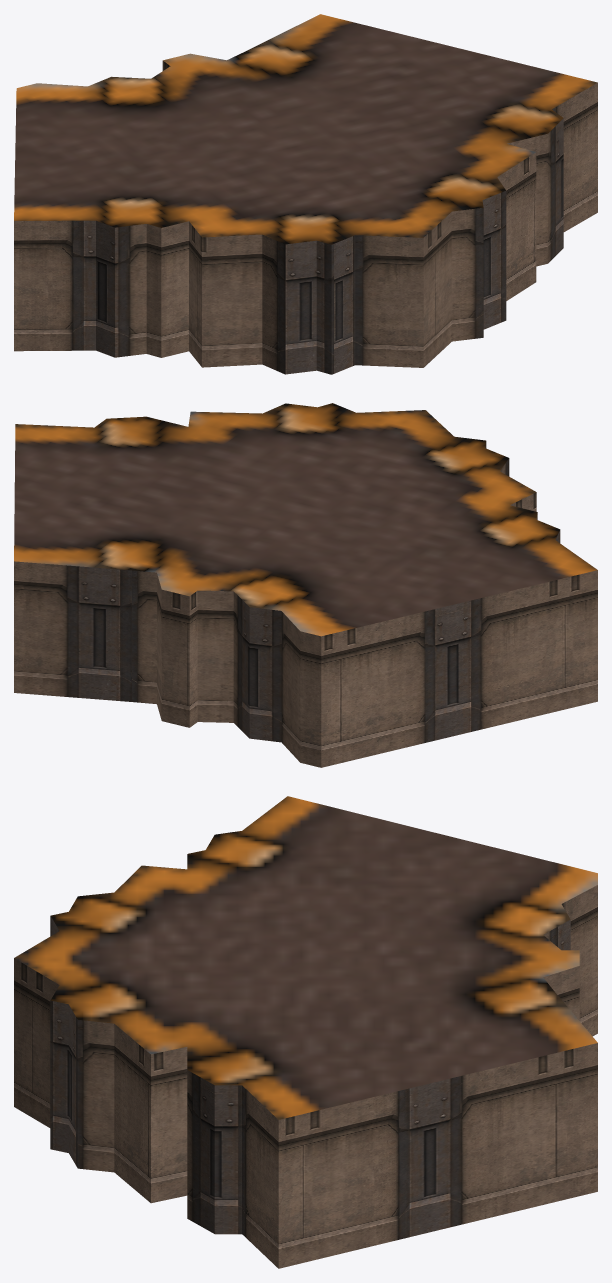
File: heavy_roof34.glb
3 renders of one model, top to bottom at view 1: azimuth 30°, elevation 25°; view 2: azimuth 150°, elevation 25°; view 3: azimuth 270°, elevation 25°, orthographic. The views are drawn at different scales.
Parts seen in each view (by area): view 1: buildings/saxarba/heavy/heavy_roof34; view 2: buildings/saxarba/heavy/heavy_roof34; view 3: buildings/saxarba/heavy/heavy_roof34.
Part boxes in pixels (left/top/right/bottom): buildings/saxarba/heavy/heavy_roof34: left=14, top=14, right=597, bottom=374; buildings/saxarba/heavy/heavy_roof34: left=14, top=403, right=597, bottom=767; buildings/saxarba/heavy/heavy_roof34: left=14, top=796, right=597, bottom=1268.
Bounding box in the file's own units: 84 × 18 × 64.
